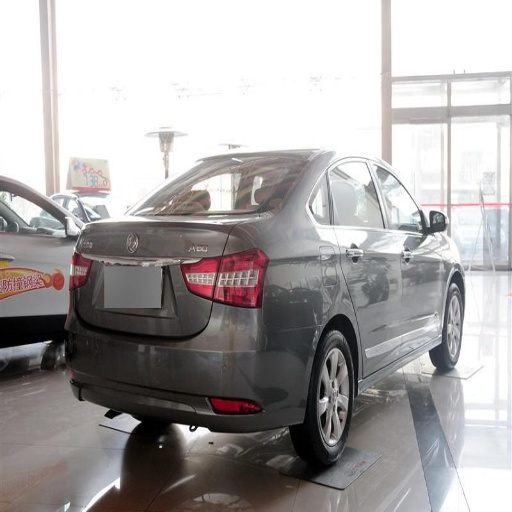back_bumper: (67, 303, 318, 440)
back_right_door: (327, 157, 400, 362)
